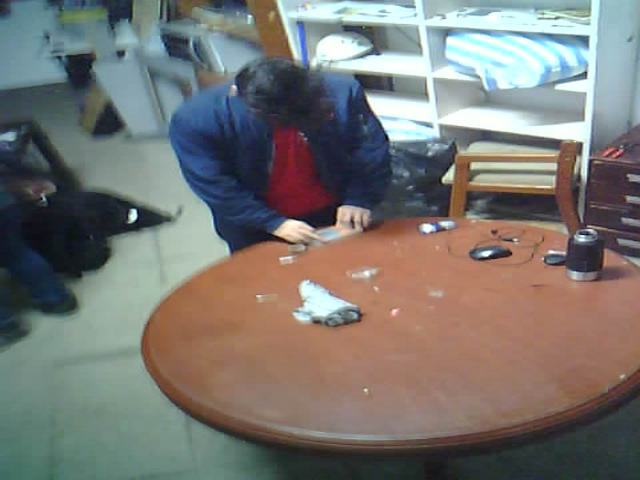person: (162, 42, 434, 272)
